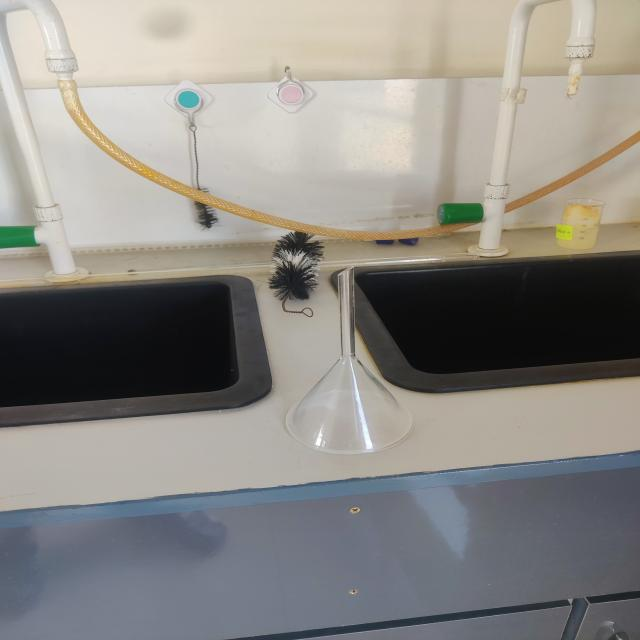Funnel: (269, 256, 451, 481)
